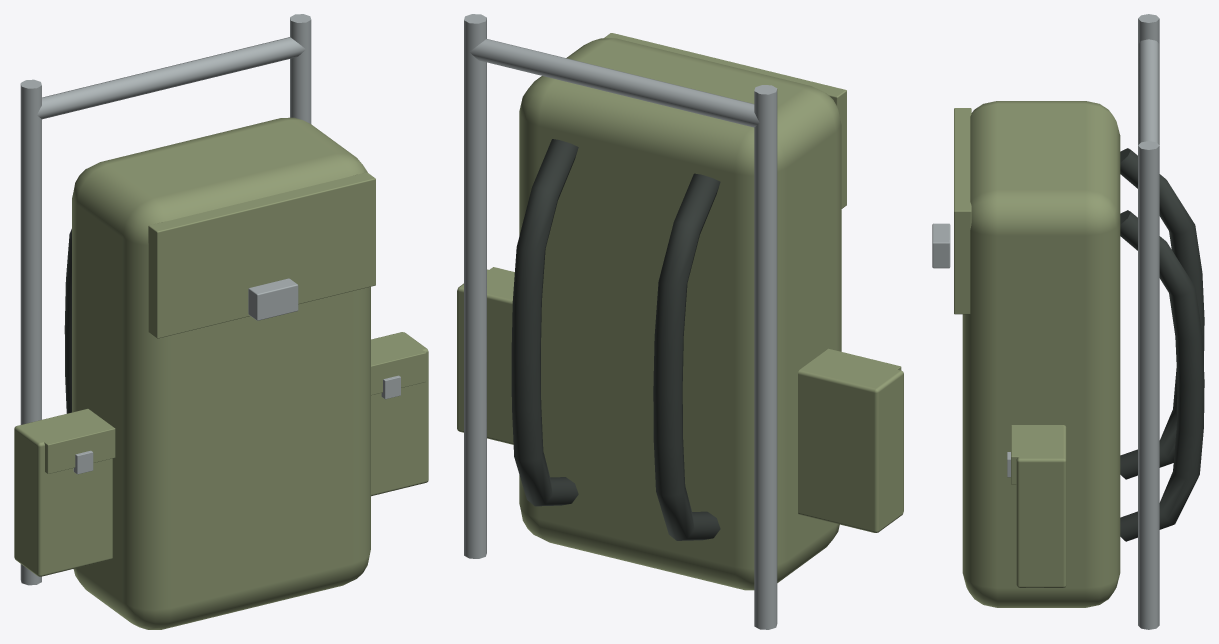
File: backpacks-and-expedition-storage-external-frame-pack-4a2ce83e__21069.glb
The picture shows the model from 3 angles, left to right: view 1: azimuth 30°, elevation 25°; view 2: azimuth 150°, elevation 25°; view 3: azimuth 270°, elevation 25°; orthographic projection. The views are drawn at different scales.
Parts seen in each view (by area): view 1: external-frame-pack, flap/canvas; view 2: external-frame-pack, flap/canvas; view 3: external-frame-pack, flap/canvas.
Boxes of the visible parts, left/top/right/bottom form: external-frame-pack: left=14, top=14, right=428, bottom=629; flap/canvas: left=148, top=172, right=375, bottom=338; external-frame-pack: left=457, top=14, right=903, bottom=629; flap/canvas: left=604, top=33, right=846, bottom=208; external-frame-pack: left=932, top=14, right=1204, bottom=629; flap/canvas: left=954, top=108, right=971, bottom=314.
Size of the model in its own units: 0.61 by 0.74 by 0.3804.
